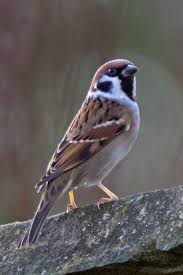home_sparrow: (18, 52, 150, 252)
